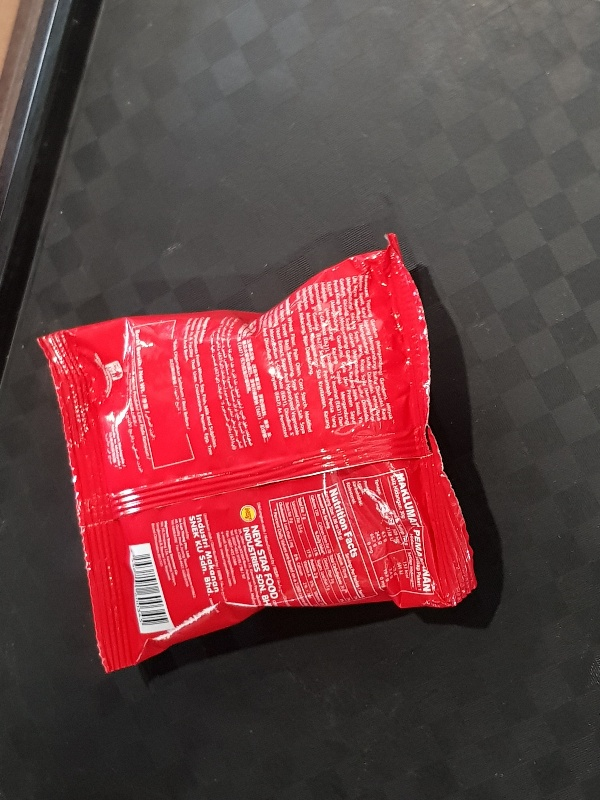ShoyueMi Spicy Flavoured Snacks: (37, 233, 477, 674)
